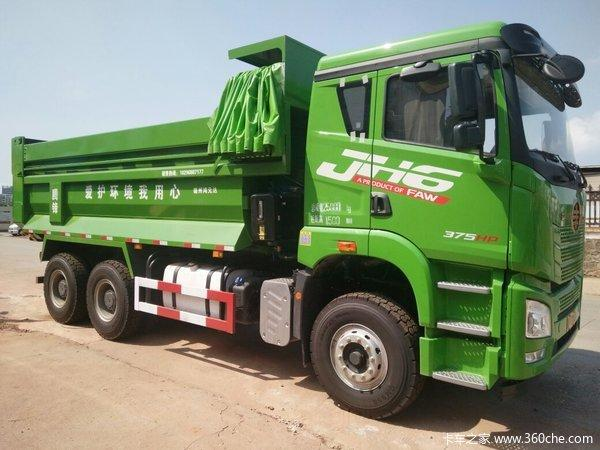truck: (8, 10, 587, 409)
